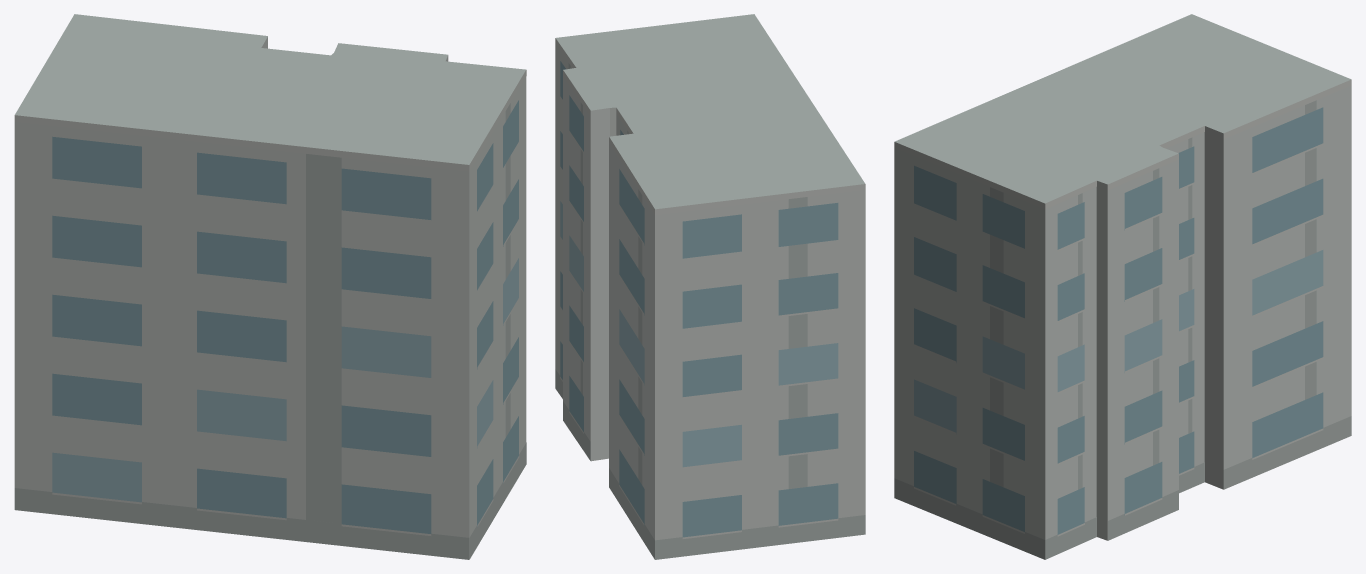
The model's file is survey-upis-32881794.glb.
The picture shows the model from 3 angles, left to right: view 1: azimuth 30°, elevation 25°; view 2: azimuth 150°, elevation 25°; view 3: azimuth 270°, elevation 25°; orthographic projection. The views are drawn at different scales.
Visible parts, largest first — view 1: survey-upis-32881794.tmp; view 2: survey-upis-32881794.tmp; view 3: survey-upis-32881794.tmp.
Boxes of the visible parts, box(x1,y1,x2,y2) form: survey-upis-32881794.tmp: box(14, 14, 526, 559); survey-upis-32881794.tmp: box(555, 14, 865, 559); survey-upis-32881794.tmp: box(894, 14, 1351, 559).
Size of the model in its own units: 16.32 by 14.3 by 16.64.
